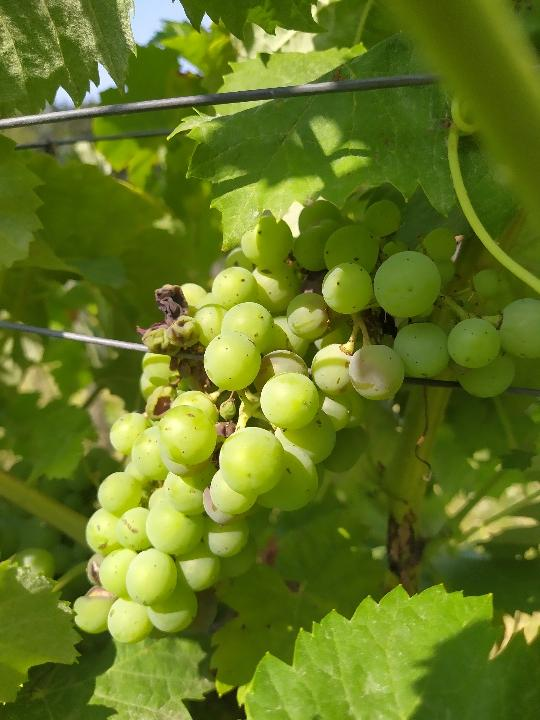grape: (72, 198, 535, 646)
